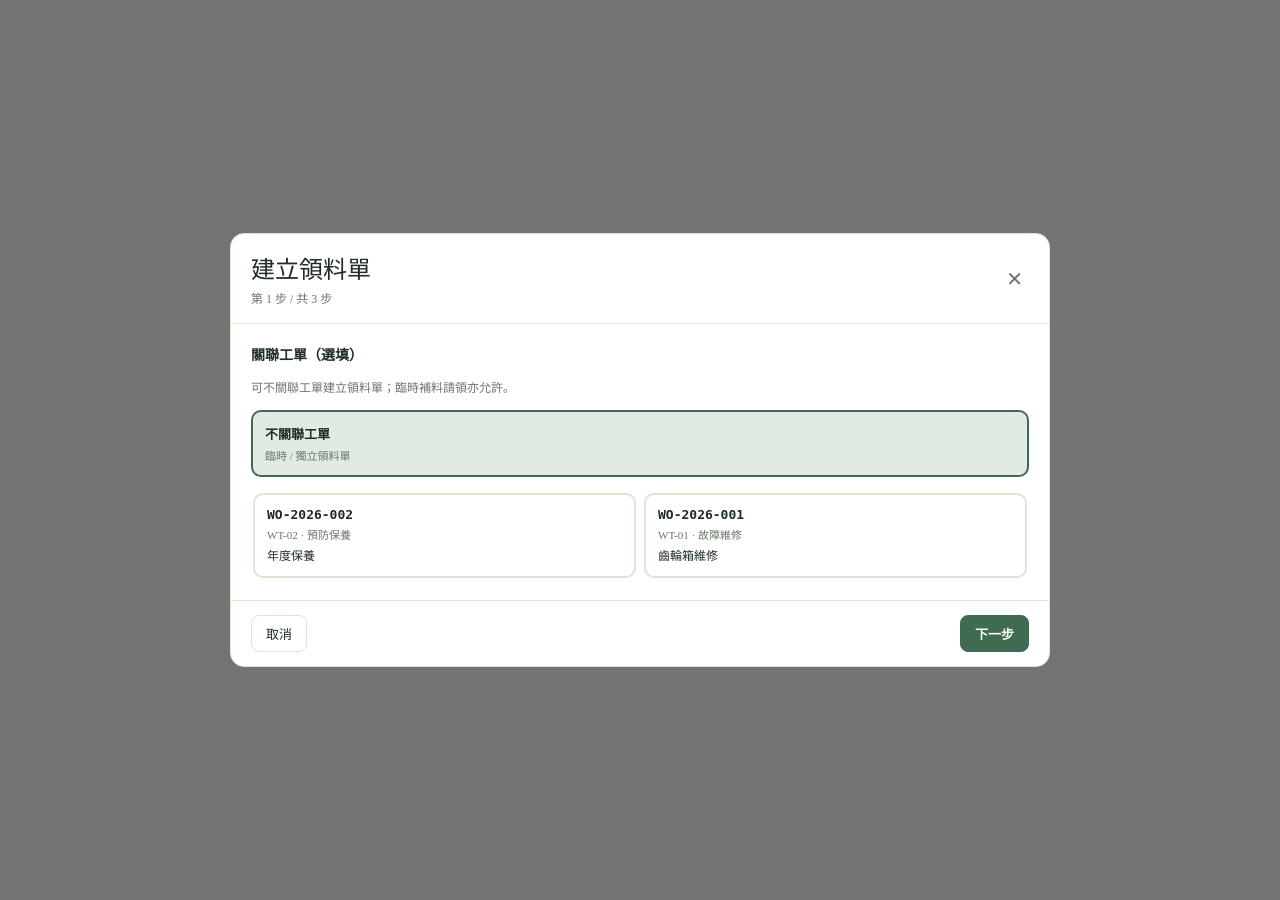
Test: CreateMaterialRequestWizard — Step 2 料件 picker › inv.loading 且無料件 → 顯示載入中提示
This screenshot has width=1280, height=900.
Click the button "下一步" at (994, 634), box [960,615,1029,652]
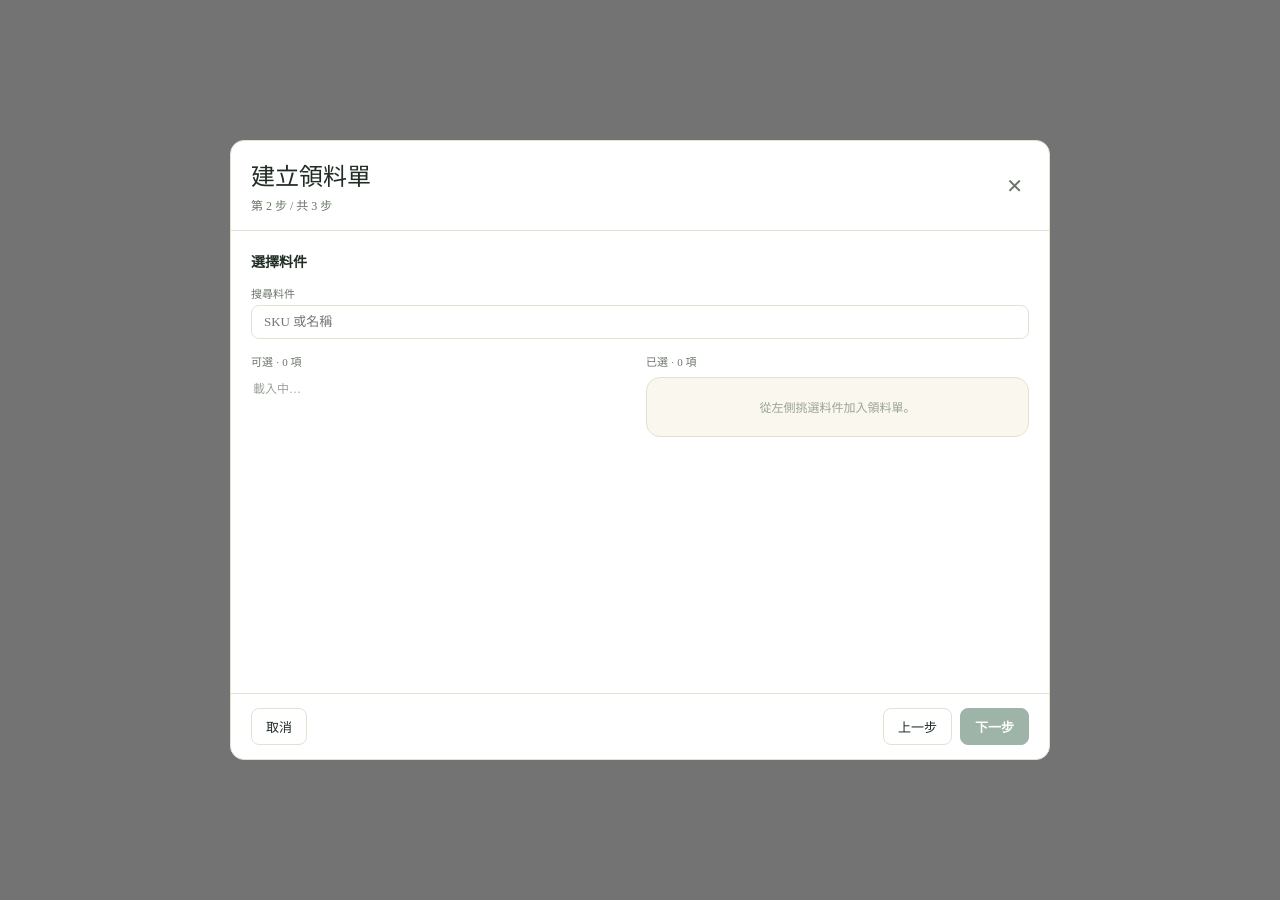
Now the text "載入中…" is shown, box [253,382,301,396]
